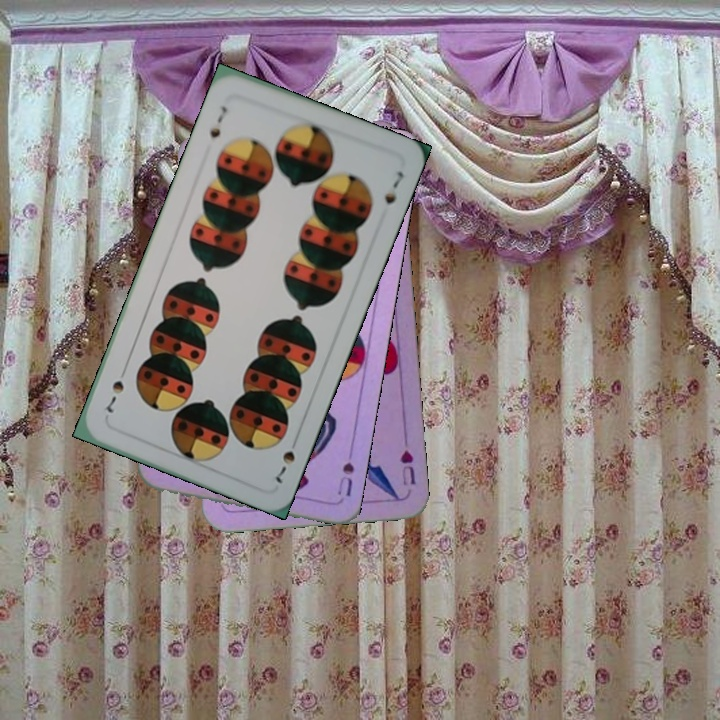HU: (396, 446, 418, 488)
S7: (271, 432, 302, 486), (205, 101, 231, 141)
SU: (333, 456, 357, 499)
